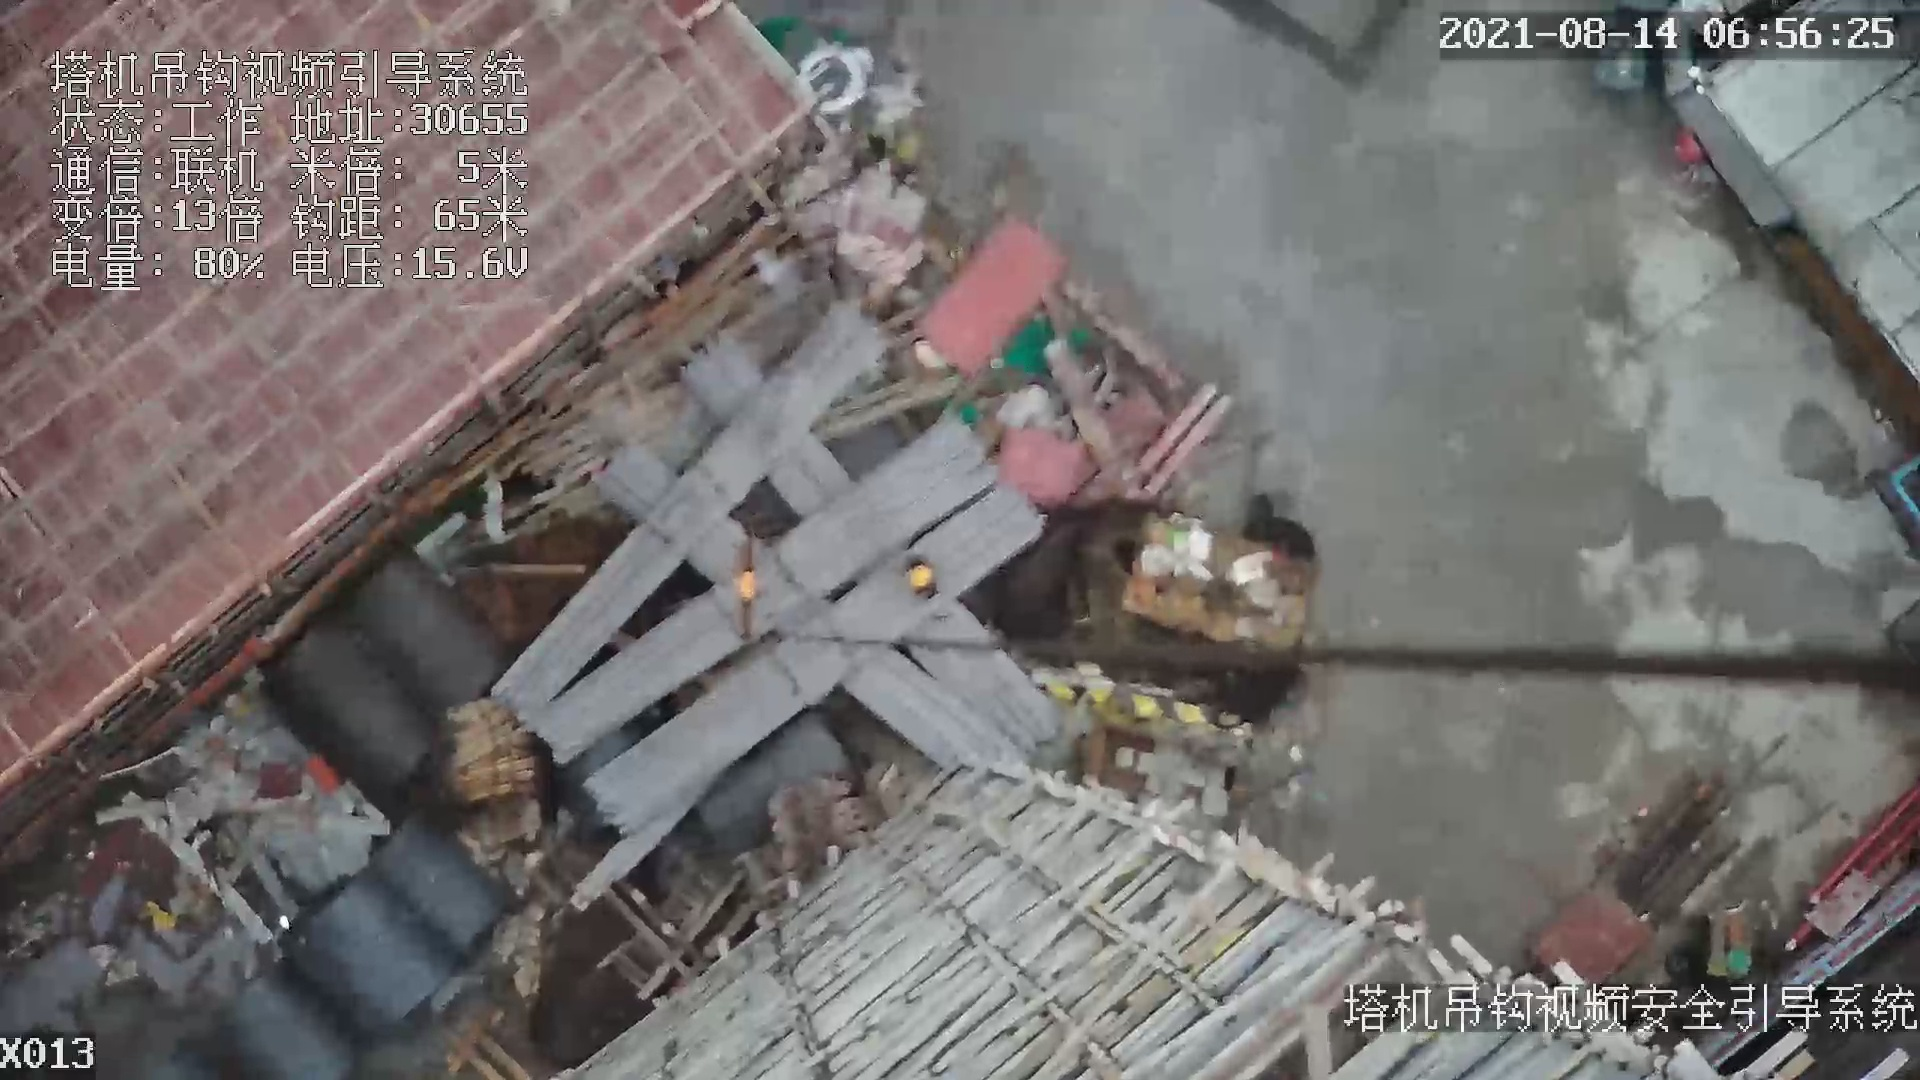helmet: (910, 566, 929, 587)
hook: (741, 528, 764, 642)
person: (896, 542, 942, 601)
rebar: (487, 301, 884, 727), (526, 412, 996, 767), (587, 491, 1041, 837), (907, 601, 1064, 748), (841, 646, 1012, 770)
wood: (455, 723, 537, 802)
